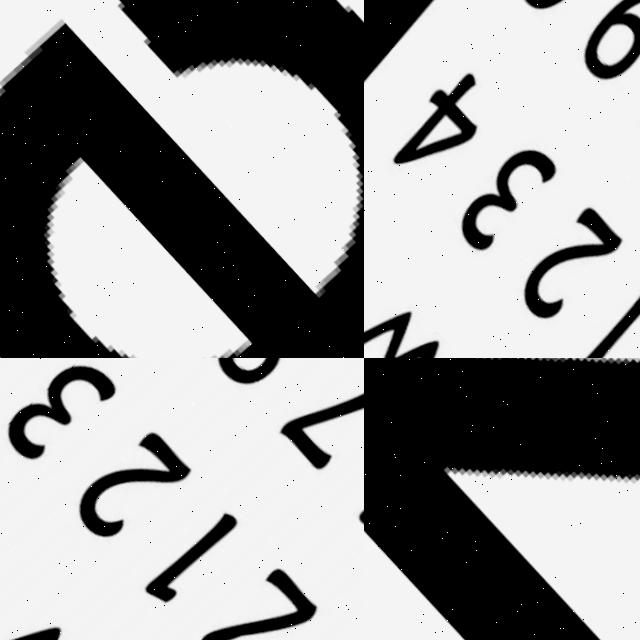0: (472, 0, 640, 42)
1: (111, 492, 255, 616), (537, 256, 640, 358)
2: (463, 182, 640, 348), (28, 407, 206, 565)
3: (411, 119, 580, 271), (0, 358, 128, 478)
4: (364, 57, 520, 211)
6: (316, 407, 364, 567)
7: (251, 358, 364, 485)
8: (181, 358, 353, 412), (599, 17, 640, 175)
9: (537, 0, 640, 107)
E: (0, 0, 364, 358)
Z: (364, 358, 640, 640)
